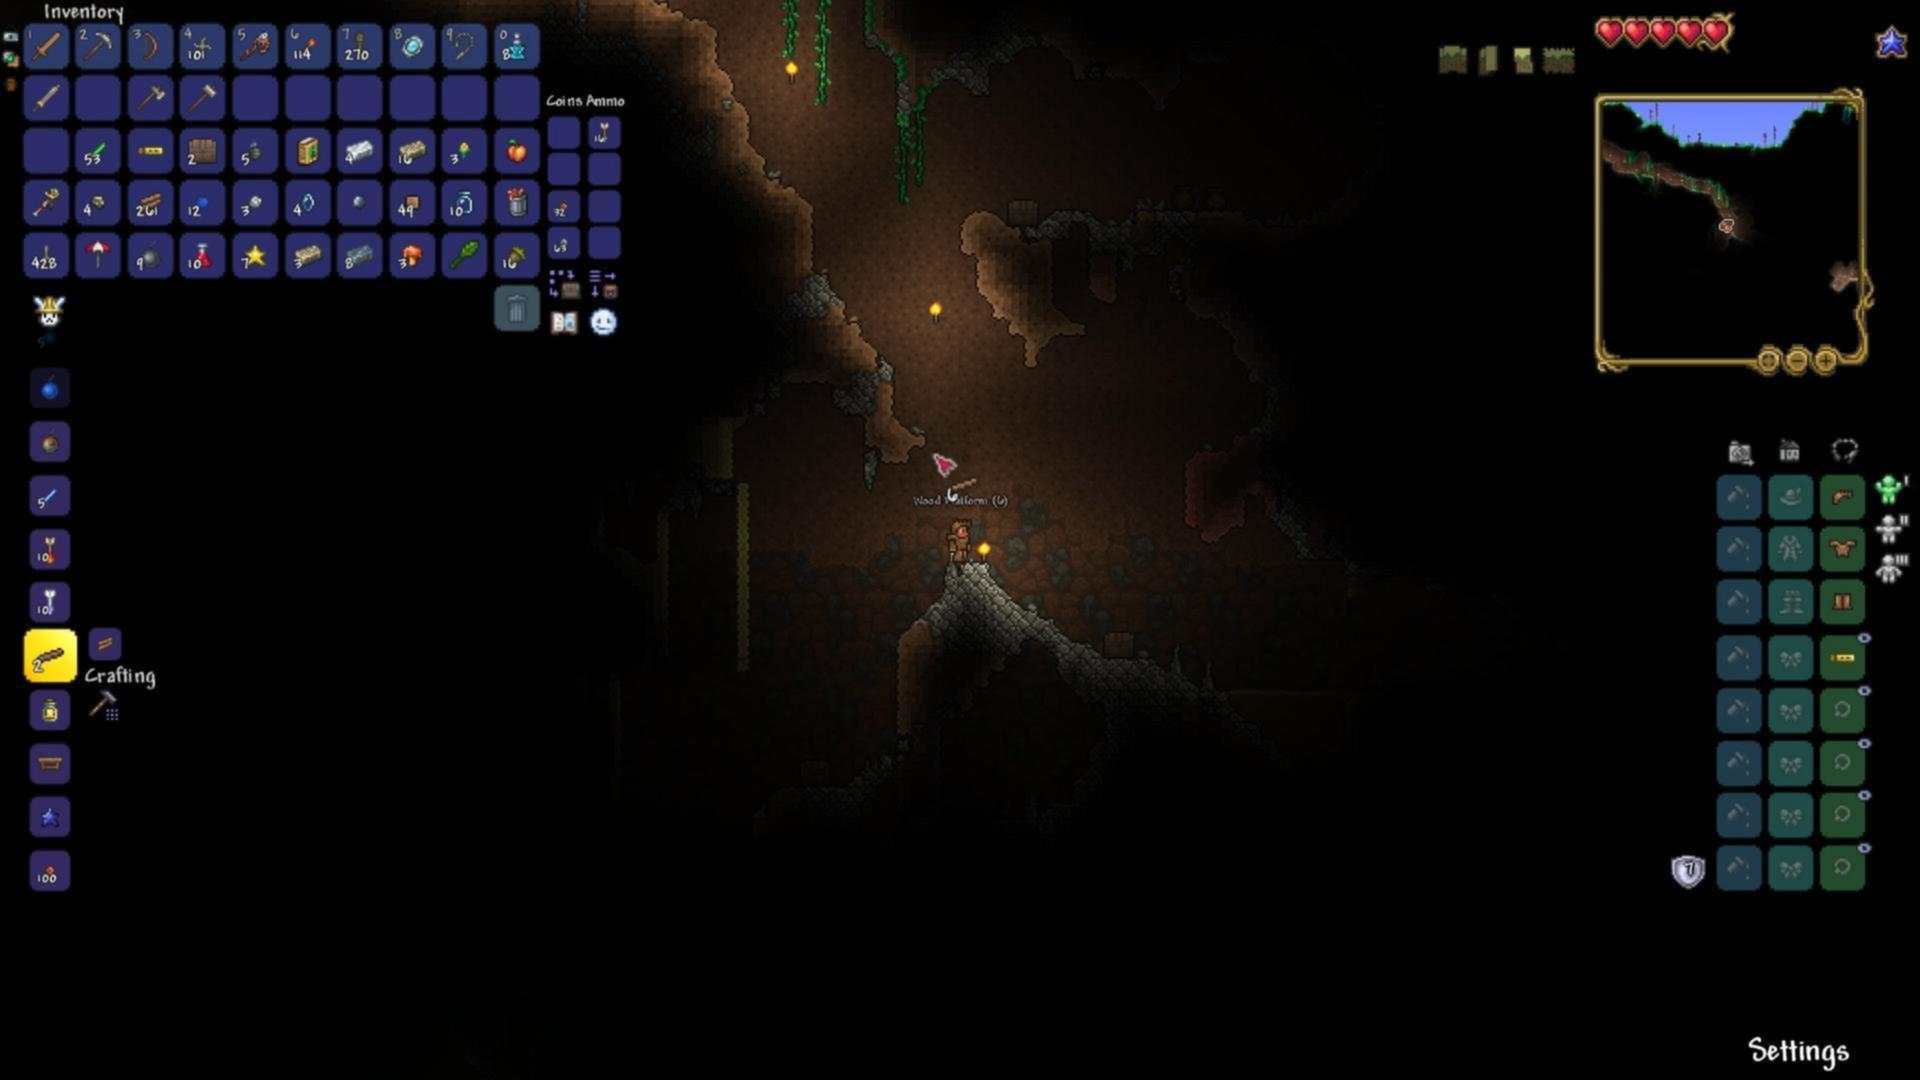arrow: (44, 585, 59, 617), (44, 535, 58, 564), (597, 117, 611, 144)
axe: (135, 83, 165, 112)
bomb: (142, 243, 164, 268)
bow: (141, 29, 160, 62)
breastplate: (1826, 537, 1859, 562)
gel: (196, 193, 214, 211)
glowstick: (88, 137, 109, 164)
grenade: (248, 138, 262, 164)
helmet: (1830, 489, 1855, 509)
knife: (40, 241, 51, 268)
legs: (1830, 588, 1855, 613)
lens: (299, 190, 319, 216)
pickaxe: (82, 32, 116, 59)
rope: (352, 30, 368, 61)
shuriken: (193, 37, 214, 58)
wood: (137, 189, 165, 214), (96, 632, 115, 651)
